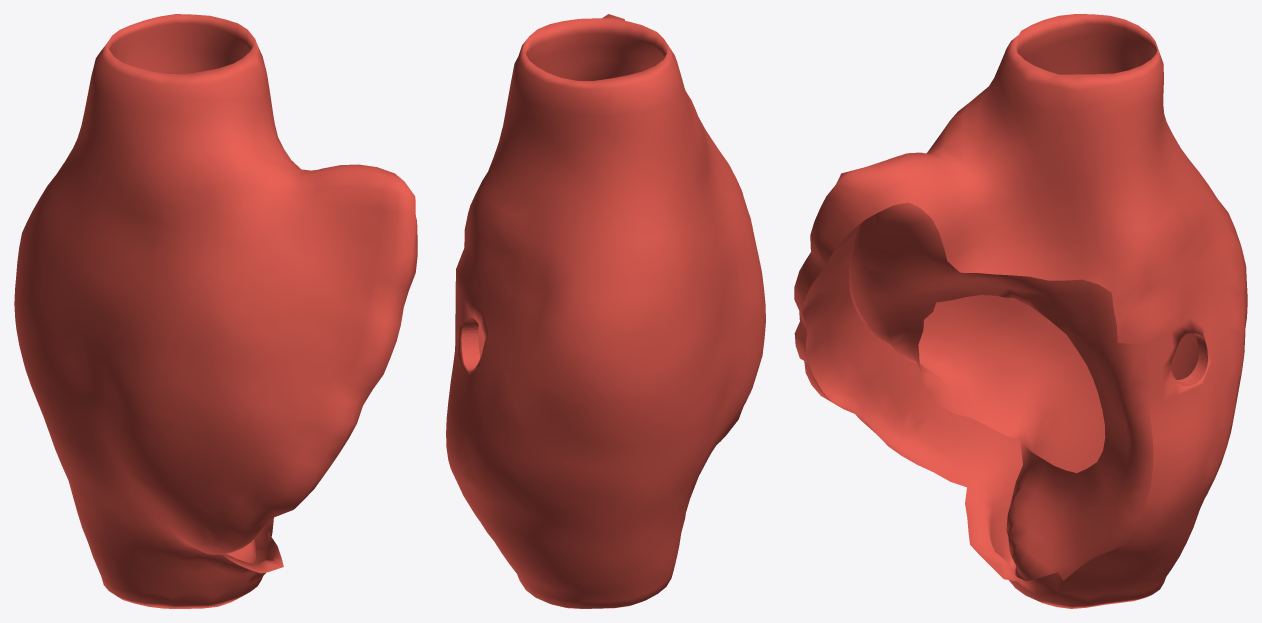
Rendered from ASDrightatrium.gltf.
The picture shows the model from 3 angles, left to right: view 1: azimuth 30°, elevation 25°; view 2: azimuth 150°, elevation 25°; view 3: azimuth 270°, elevation 25°; orthographic projection.
Visible parts, largest first — view 1: Rightatrium.019; view 2: Rightatrium.019; view 3: Rightatrium.019.
Part boxes in pixels (<box>): Rightatrium.019: <box>14,14,417,608</box>; Rightatrium.019: <box>446,14,765,608</box>; Rightatrium.019: <box>794,14,1247,608</box>.
Size of the model in its own units: 1.47 by 3.06 by 2.34.
